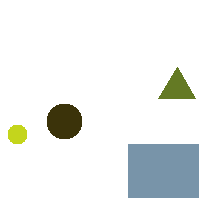circle: (47, 104, 81, 138), (8, 125, 26, 143)
rectangle: (128, 144, 198, 197)
triangle: (158, 67, 195, 98)
